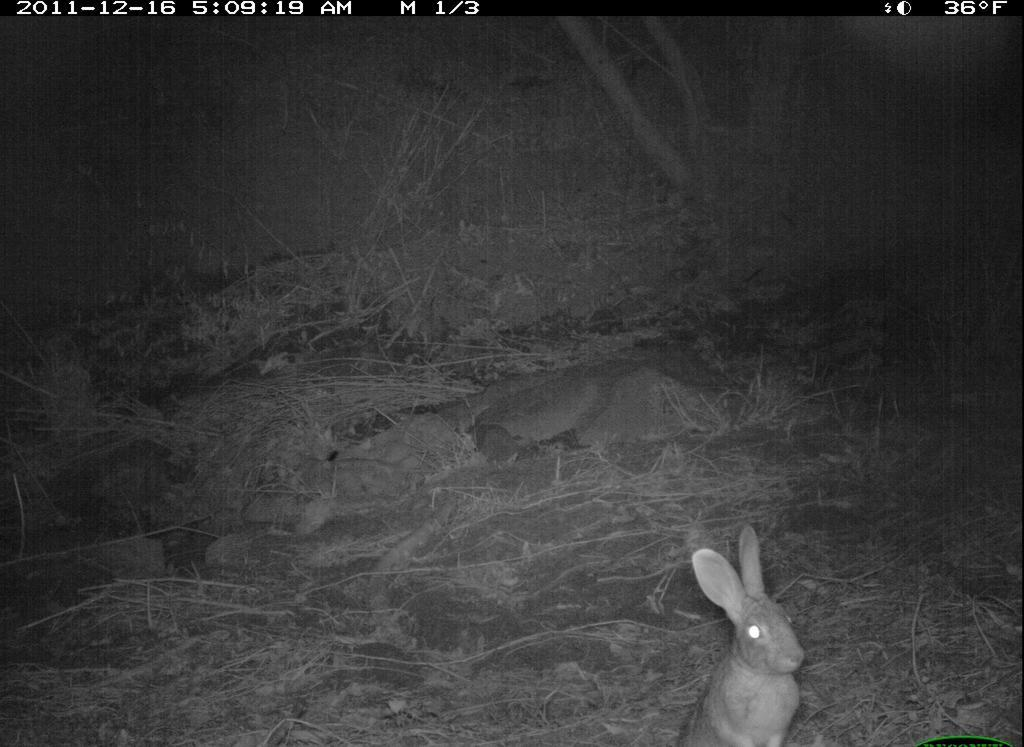rabbit: (683, 524, 806, 747)
